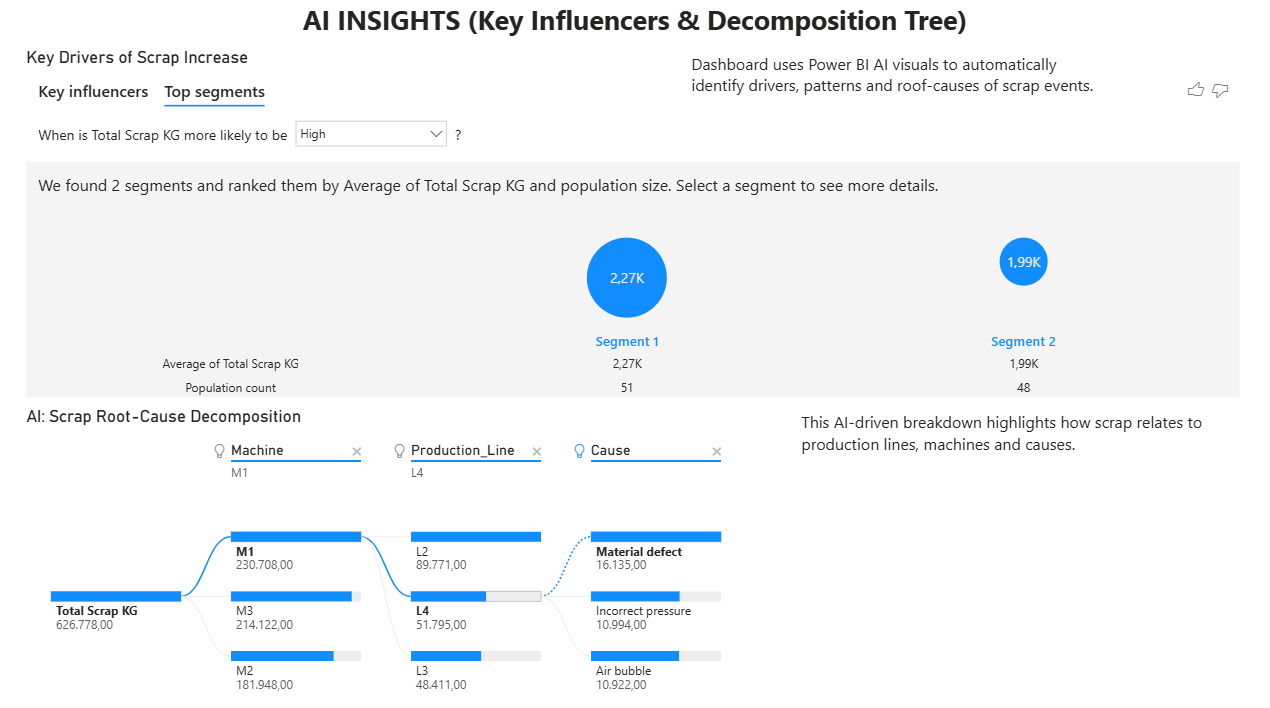

This screenshot's page, from the dashboard's own definition file:
{"tool":"powerbi","page":{"name":"AI Insights","canvas":[1280,720],"ordinal":1},"visuals":[{"type":"keyDriversVisual","title":"Key Drivers of Scrap Increase","fields":{"Target":["ScrapData.Total Scrap KG"],"ExplainBy":["ScrapData.Production_Line","ScrapData.Machine","ScrapData.Scrap_Cost_EUR","ScrapData.Scrap_KG","ScrapData.MonthNumber"]},"box":[26.2,51.2,1223.8,350],"z":0},{"type":"textbox","box":[0,0,1280,51.2],"z":1000},{"type":"decompositionTreeVisual","title":"AI: Scrap Root-Cause Decomposition","fields":{"ExplainBy":["ScrapData.Machine","ScrapData.Production_Line","ScrapData.Cause"],"Analyze":["ScrapData.Total Scrap KG"]},"box":[26.2,410,1223.8,310],"z":2000},{"type":"textbox","box":[801.2,410,430,77.5],"z":3000},{"type":"textbox","box":[691.2,51.2,430,77.5],"z":3001}]}

Visuals, with their boxes in screenshot pixels (x1, y1, x2, y2), scaled from the page's 1280x720 canvas onto the 1270x708 screenshot:
"Key Drivers of Scrap Increase" keyDriversVisual: [left=26, top=50, right=1240, bottom=395]
textbox: [left=0, top=0, right=1269, bottom=50]
"AI: Scrap Root-Cause Decomposition" decompositionTreeVisual: [left=26, top=403, right=1240, bottom=707]
textbox: [left=795, top=403, right=1222, bottom=479]
textbox: [left=686, top=50, right=1112, bottom=127]
